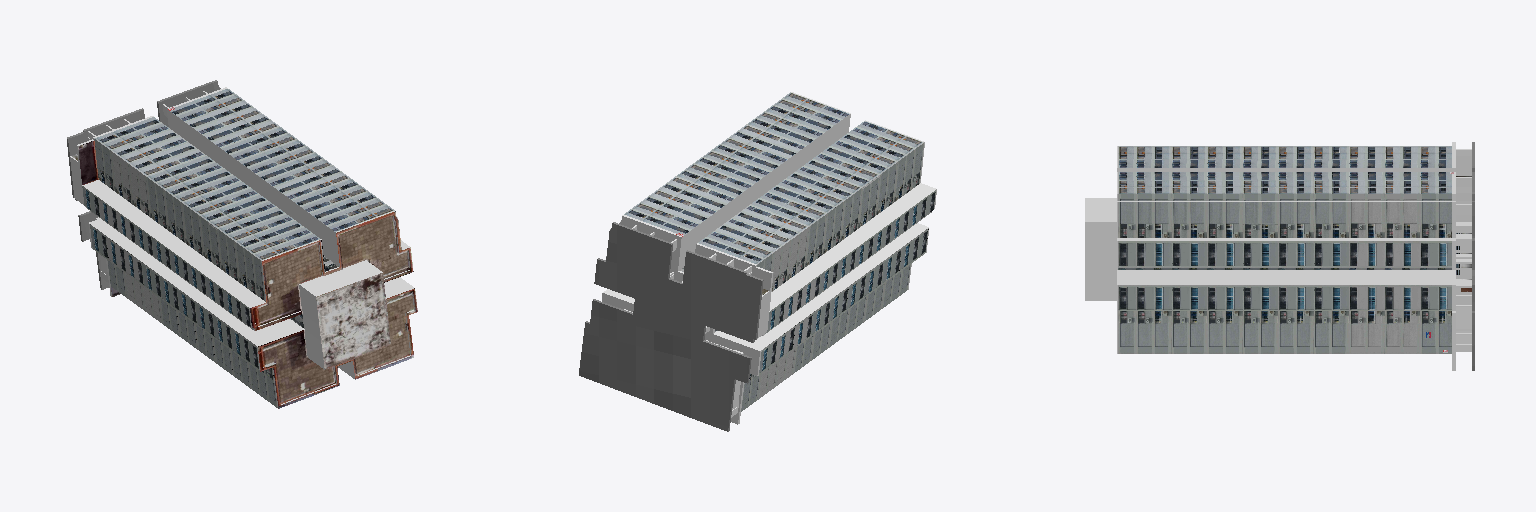
3 renders of one model, left to right at view 1: azimuth 30°, elevation 25°; view 2: azimuth 150°, elevation 25°; view 3: azimuth 270°, elevation 25°, orthographic.
Visible parts, largest first — view 1: polygon.860; view 2: polygon.860; view 3: polygon.860.
Part boxes in pixels (x1,y1,x2,y2): polygon.860: (67,80,417,408); polygon.860: (579,92,936,431); polygon.860: (1085,142,1474,370).
Size of the model in its own units: 32.95 by 31.03 by 60.8.
Materials: 1 (1 with a texture image).